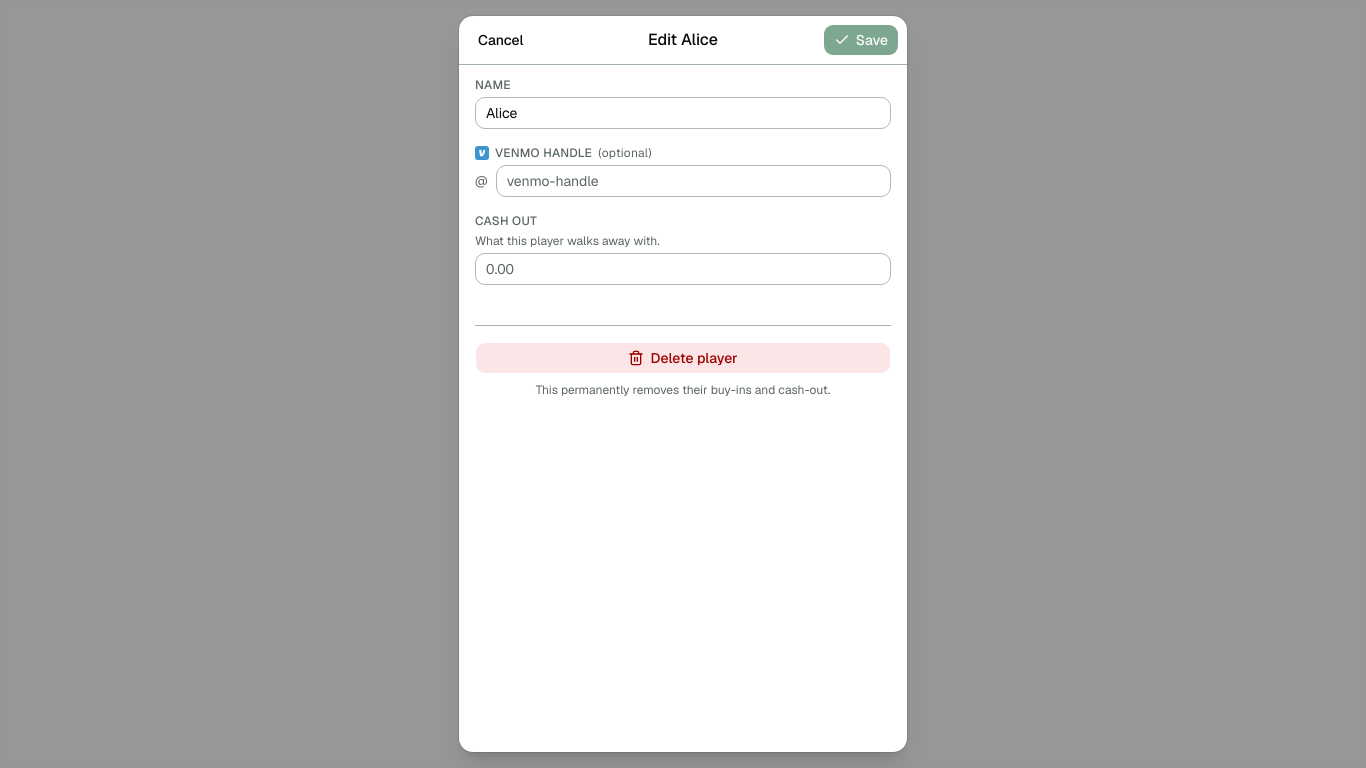
it: PlayerDetailsSheet — discard guard › Cancel on a dirty form prompts to discard instead of closing
Replace the text in the field named "name" with "Alicia". click: (683, 113)
box: [475,97,891,129]
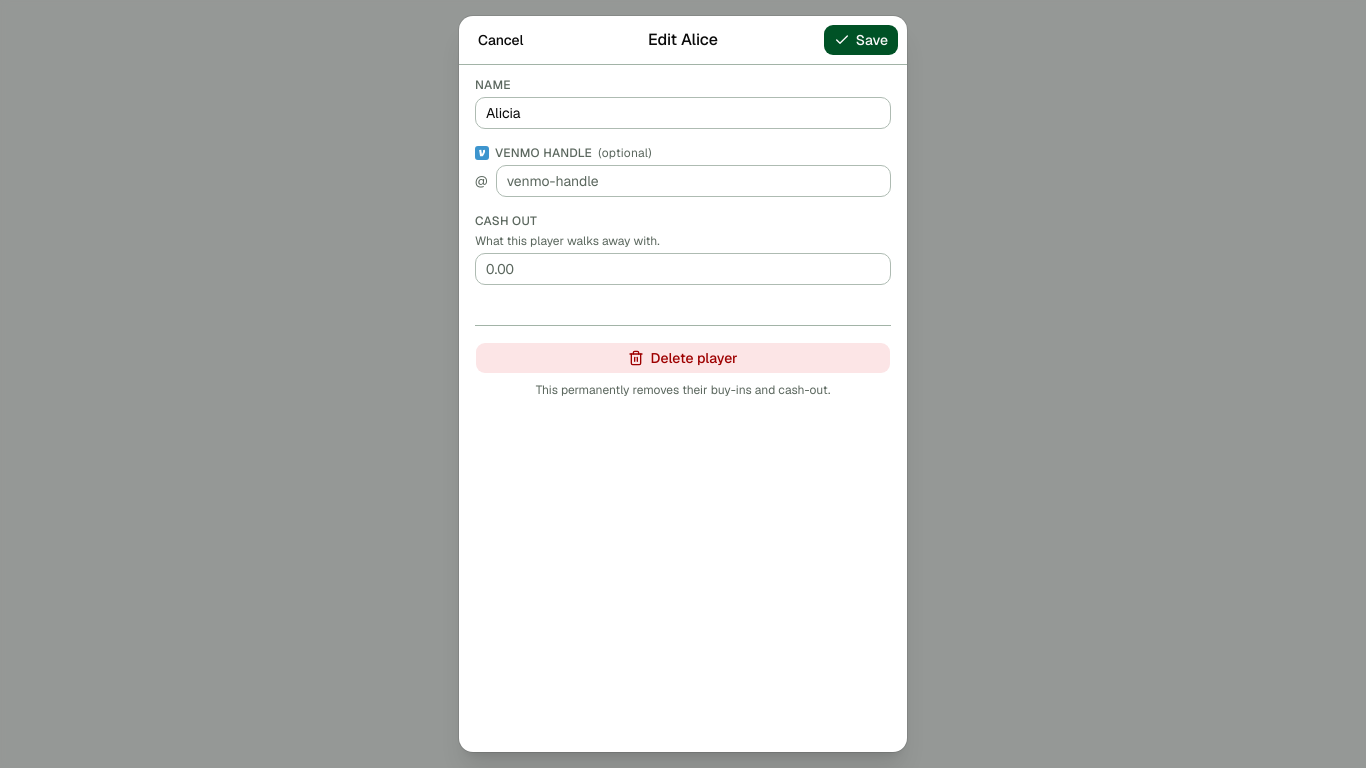
Click the button with test id "pds-cancel-p1". click: (501, 40)
box: [467,24,535,56]
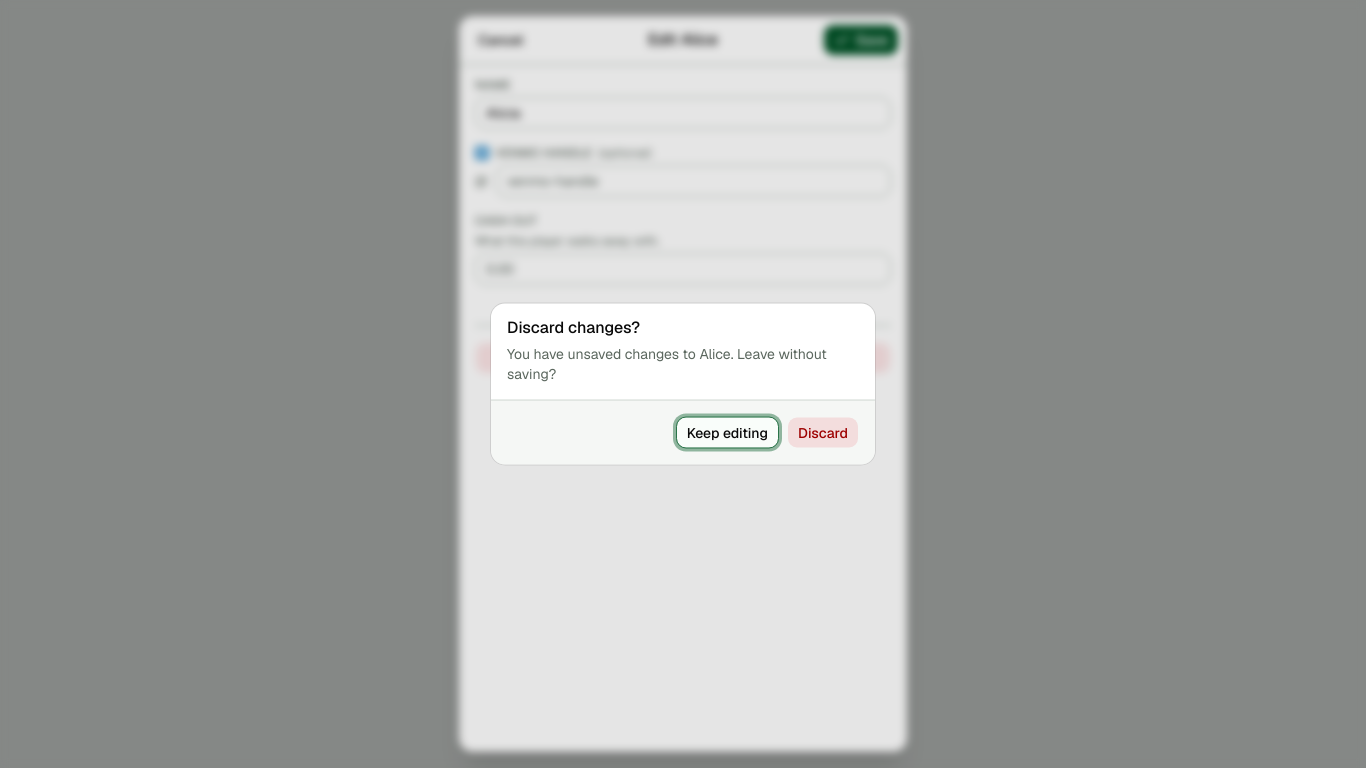
Expected: the dialog with test id "pds-discard-confirm-p1" is shown, [491,304,875,464]
